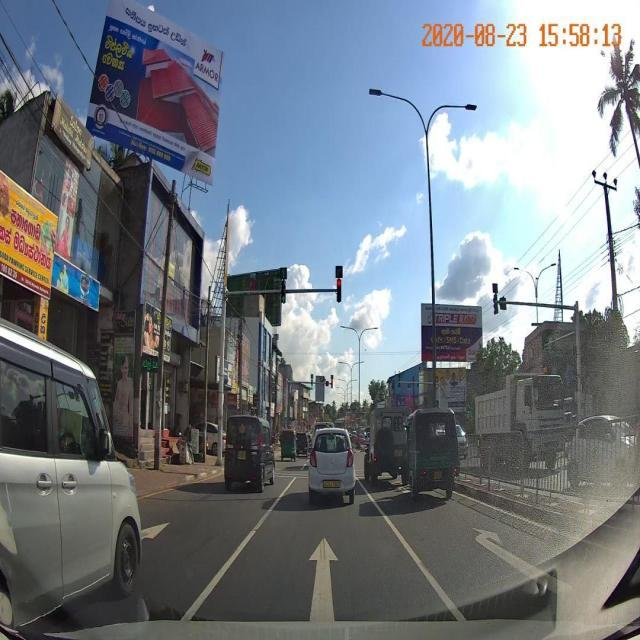Liniya 1: (178, 477, 298, 622), (356, 478, 469, 621), (451, 490, 617, 555)
Strelka vpered: (306, 534, 340, 623)
Strelka vpravo: (470, 525, 578, 597)
